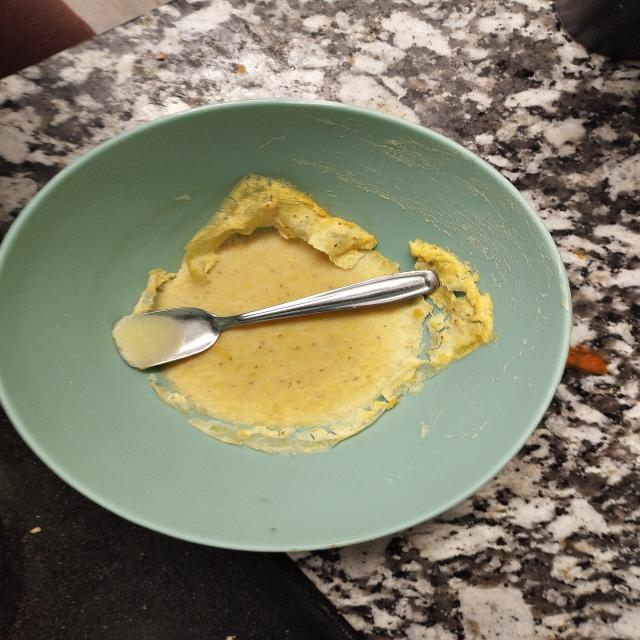Spoon: (99, 253, 464, 376)
